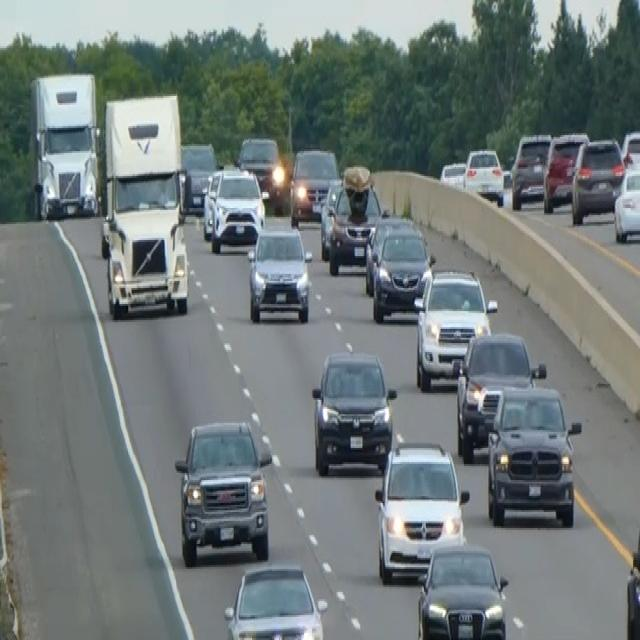car: (485, 380, 581, 528), (374, 437, 469, 583), (454, 329, 545, 462), (310, 346, 397, 474), (413, 265, 497, 391), (416, 539, 509, 638), (223, 562, 324, 638), (365, 213, 434, 322), (246, 224, 312, 324), (327, 164, 383, 274), (208, 165, 265, 252), (570, 135, 625, 224), (288, 144, 340, 226), (363, 212, 412, 294), (542, 130, 588, 212), (236, 133, 284, 204), (510, 130, 551, 208), (180, 139, 217, 213), (463, 144, 504, 204), (318, 178, 344, 260), (613, 164, 639, 244), (201, 166, 224, 238), (620, 128, 639, 169), (439, 160, 466, 188)
jeep: (173, 416, 273, 567)
lorry: (100, 89, 189, 320), (28, 68, 100, 220)
